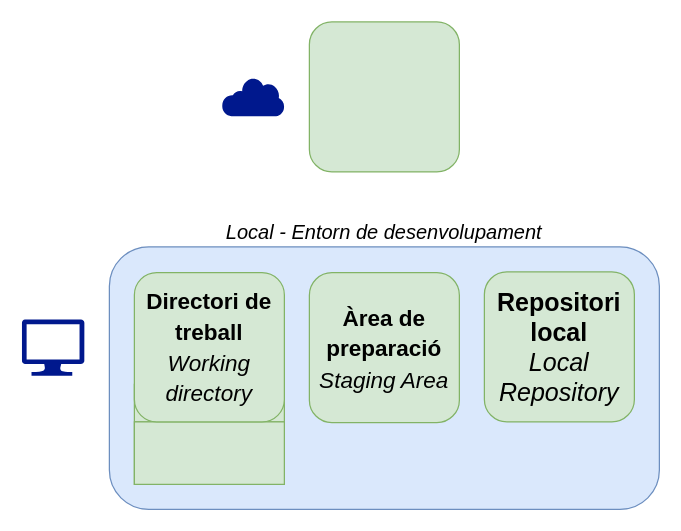
Image size: 681x531. Some labels were removed from this diagram. Here are the shapes that lost their labels. From the top down, the centre of each, then its label:
At point (383, 96): "Repositori Remot Remote Repository".
At point (208, 452): "Untracked : README.md".
